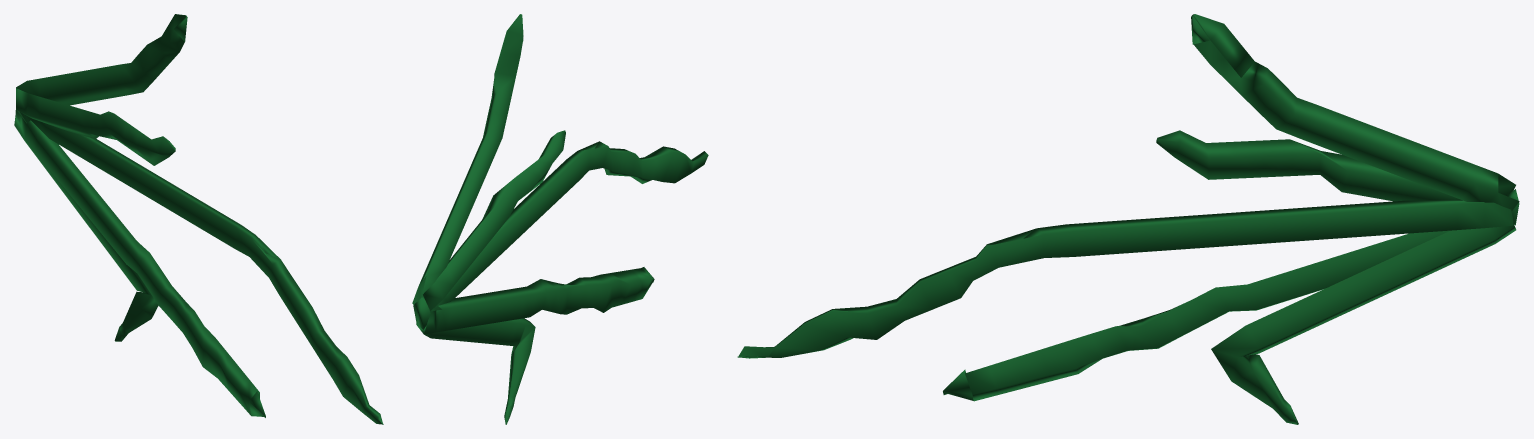
File: Grass.fbx
The picture shows the model from 3 angles, left to right: view 1: azimuth 30°, elevation 25°; view 2: azimuth 150°, elevation 25°; view 3: azimuth 270°, elevation 25°; orthographic projection. The views are drawn at different scales.
Visible parts, largest first — view 1: Cube; view 2: Cube; view 3: Cube.
Part boxes in pixels (box(x1,y1,x2,y2)): Cube: box(14, 14, 383, 424); Cube: box(412, 14, 708, 424); Cube: box(737, 14, 1519, 424).
Bounding box in the file's own units: 34.55 × 192 × 318.
